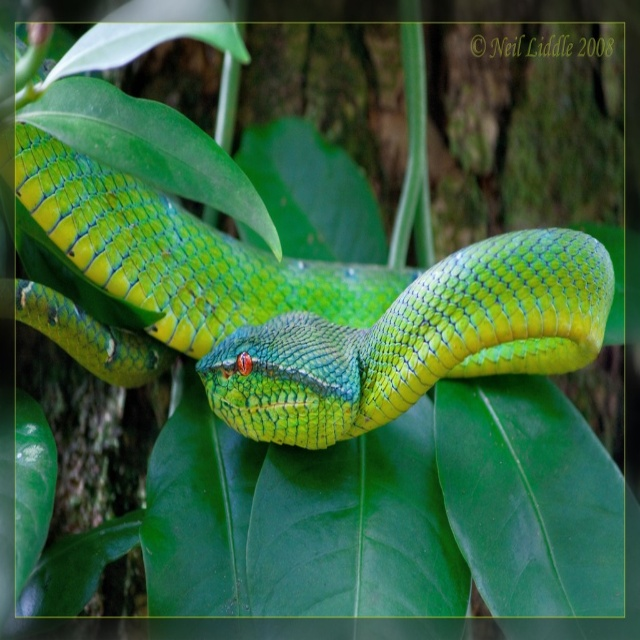Snake: (0, 117, 615, 450)
